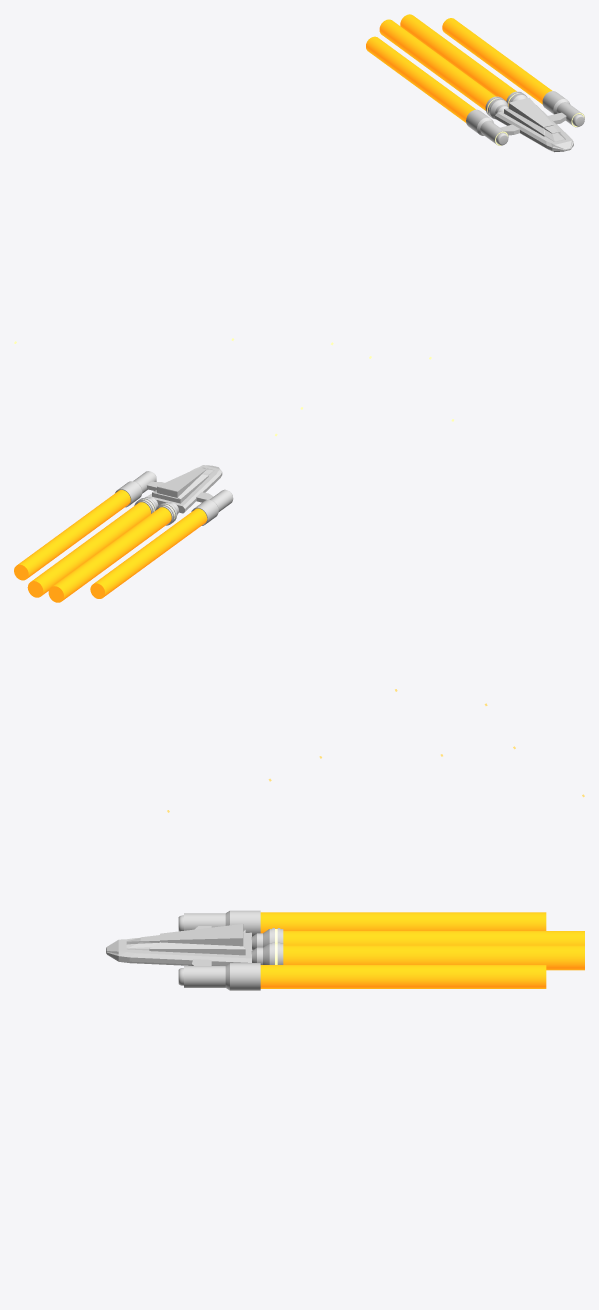
File: SpaceshipScene.glb
The picture shows the model from 3 angles, top to bottom: view 1: azimuth 30°, elevation 25°; view 2: azimuth 150°, elevation 25°; view 3: azimuth 270°, elevation 25°; orthographic projection. The views are drawn at different scales.
Parts seen in each view (by area): view 1: BackRockets.004, SideJetEngines.004, MainFrame.003, SideJetEngines.003; view 2: BackRockets.004, SideJetEngines.004, MainFrame.003, SideJetEngines.003; view 3: SideJetEngines.004, BackRockets.004, MainFrame.003, SideJetEngines.003, BackRockets.003.
Part boxes in pixels (bbox=[...]): BackRockets.004: bbox=[379, 14, 516, 110]; SideJetEngines.004: bbox=[366, 18, 552, 122]; MainFrame.003: bbox=[495, 97, 573, 152]; SideJetEngines.003: bbox=[466, 91, 584, 145]; BackRockets.004: bbox=[27, 502, 171, 602]; SideJetEngines.004: bbox=[14, 490, 207, 598]; MainFrame.003: bbox=[145, 465, 222, 513]; SideJetEngines.003: bbox=[115, 471, 233, 525]; SideJetEngines.004: bbox=[260, 912, 546, 988]; BackRockets.004: bbox=[283, 931, 584, 970]; MainFrame.003: bbox=[106, 924, 251, 965]; SideJetEngines.003: bbox=[178, 910, 260, 990]; BackRockets.003: bbox=[251, 928, 283, 964].
Bounding box in the file's own units: 39.81 × 21.02 × 27.51.
